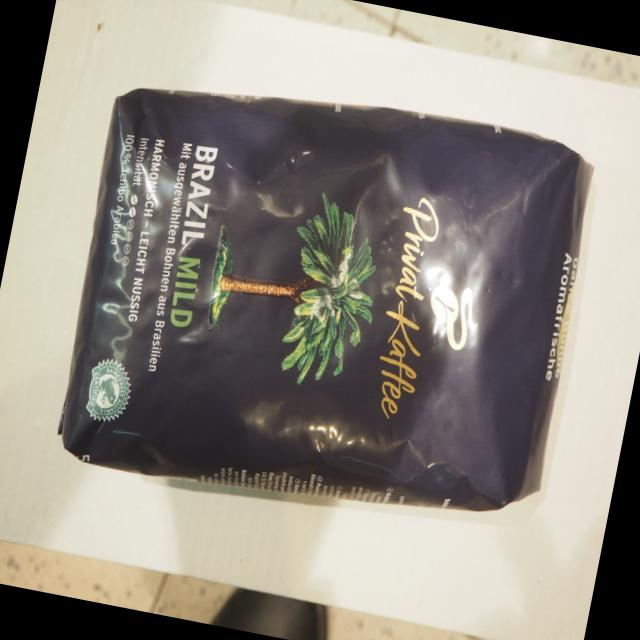BM Bohne: (47, 62, 617, 526)
